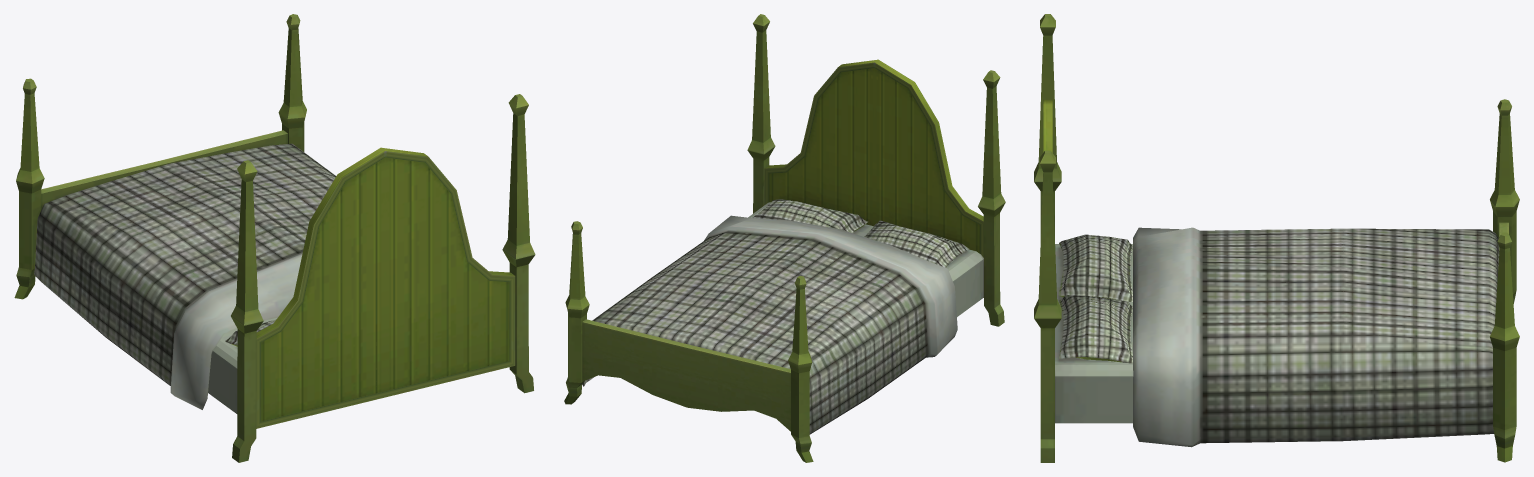
File: furni_0200042_01.FBX
3 renders of one model, left to right at view 1: azimuth 30°, elevation 25°; view 2: azimuth 150°, elevation 25°; view 3: azimuth 270°, elevation 25°, orthographic. The views are drawn at different scales.
Parts seen in each view (by area): view 1: furni_0200042_01; view 2: furni_0200042_01; view 3: furni_0200042_01.
Part boxes in pixels (bbox=[...]): furni_0200042_01: bbox=[14, 14, 535, 462]; furni_0200042_01: bbox=[564, 14, 1005, 462]; furni_0200042_01: bbox=[1034, 14, 1519, 462].
Bounding box in the file's own units: 170 × 163 × 236.
1 material, 1 textured.
